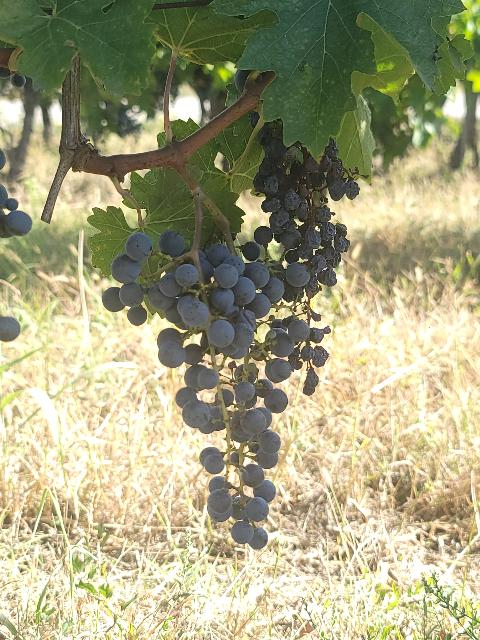grapes: (102, 230, 328, 549), (254, 120, 359, 302)
